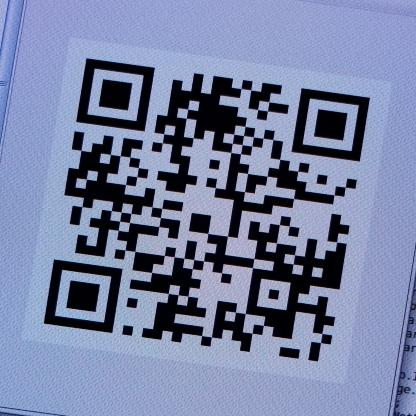qr: (35, 54, 373, 370)
